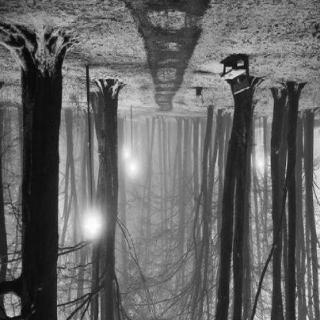other: (72, 206, 111, 252), (117, 144, 141, 188)
